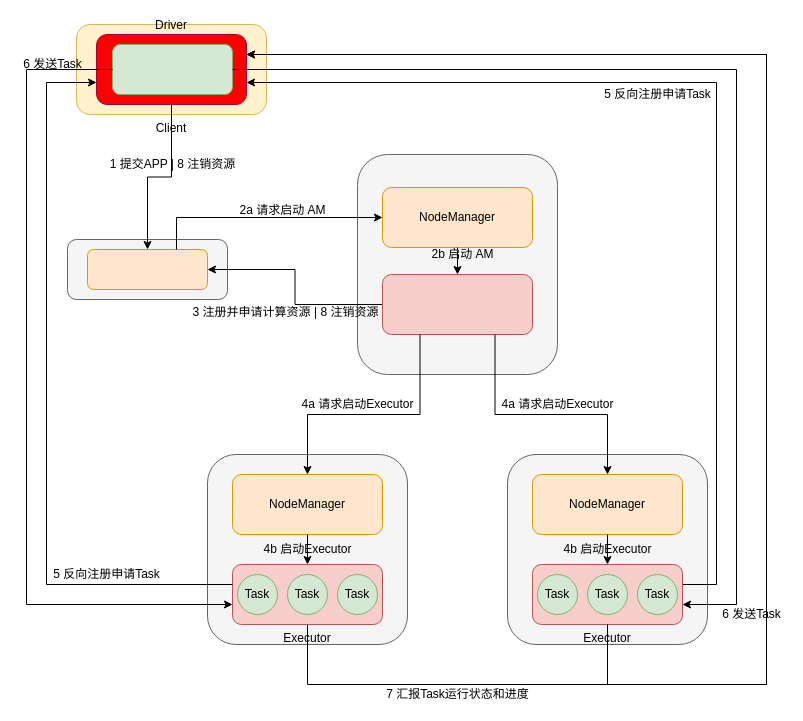
Some shapes in this 803 by 721 pixel diagram are drawn without their labels. Each missing label, with the centre of its shape:
ApplicationMaster: the point at 457,304
ResourceMager: the point at 147,269
SparkContext: the point at 172,69
